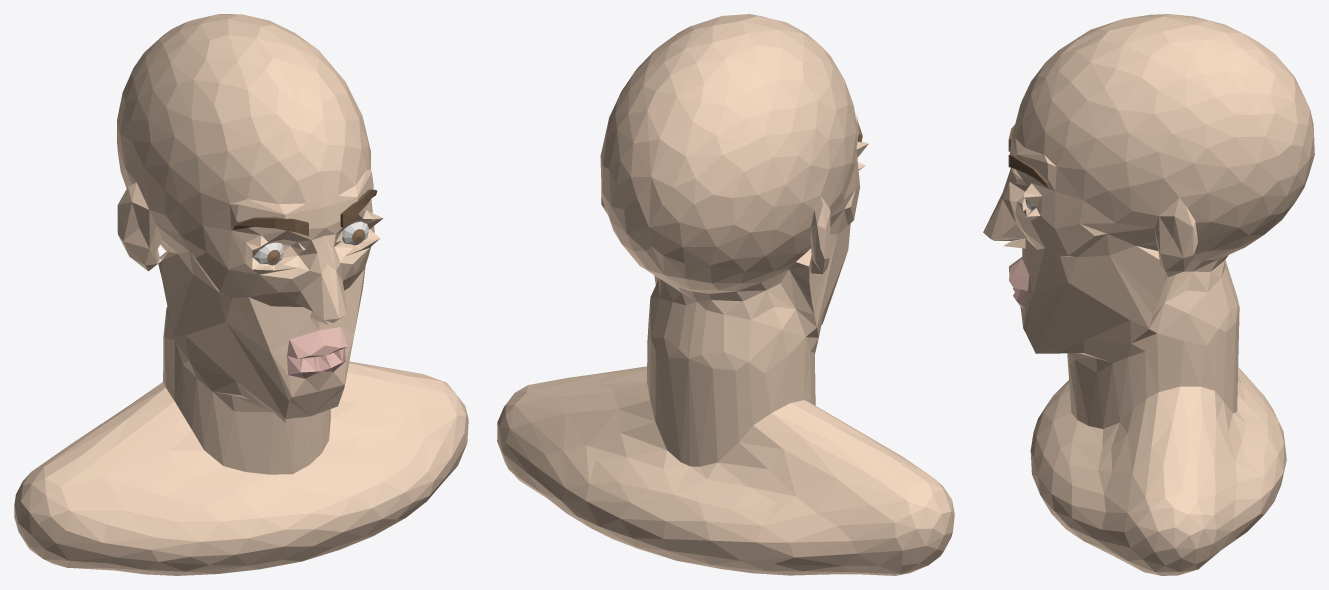
File: head_high.glb
3 views of the same model, side by side, from view 1: azimuth 30°, elevation 25°; view 2: azimuth 150°, elevation 25°; view 3: azimuth 270°, elevation 25° (orthographic). The views are drawn at different scales.
Parts seen in each view (by area): view 1: Head_Main, Eyebrow_R; view 2: Head_Main; view 3: Head_Main, Eyebrow_L.
Part boxes in pixels (bbox=[...]): Head_Main: bbox=[14, 14, 468, 575]; Eyebrow_R: bbox=[233, 217, 308, 236]; Head_Main: bbox=[497, 14, 954, 575]; Head_Main: bbox=[983, 14, 1314, 575]; Eyebrow_L: bbox=[1008, 155, 1050, 188].
Size of the model in its own units: 0.3218 by 0.3417 by 0.2204.
